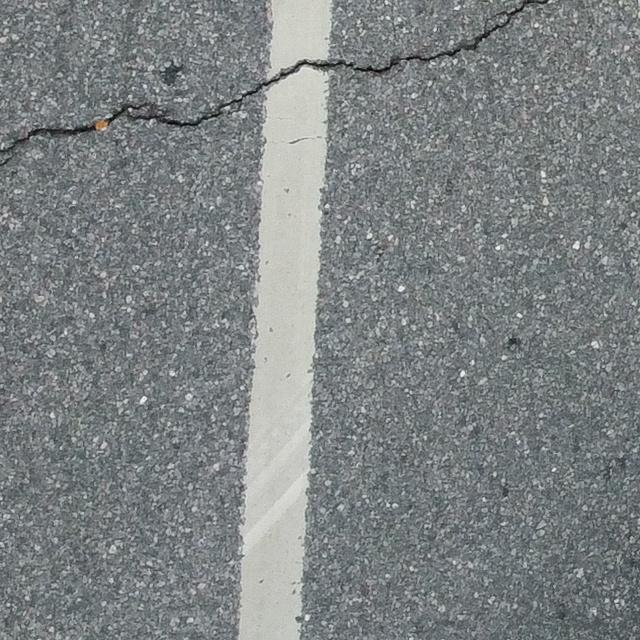TransverseCrack: (1, 1, 549, 154)
